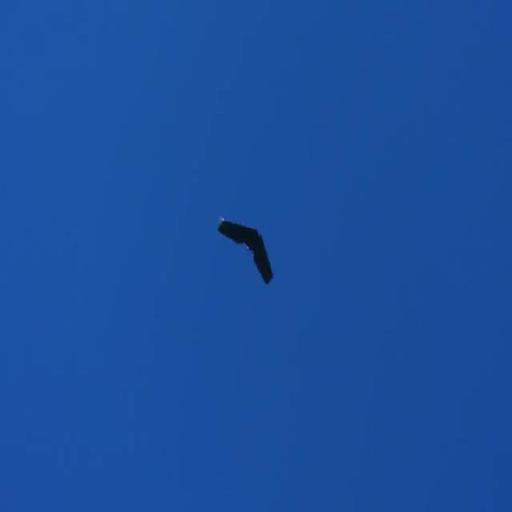uav: (217, 212, 279, 294)
